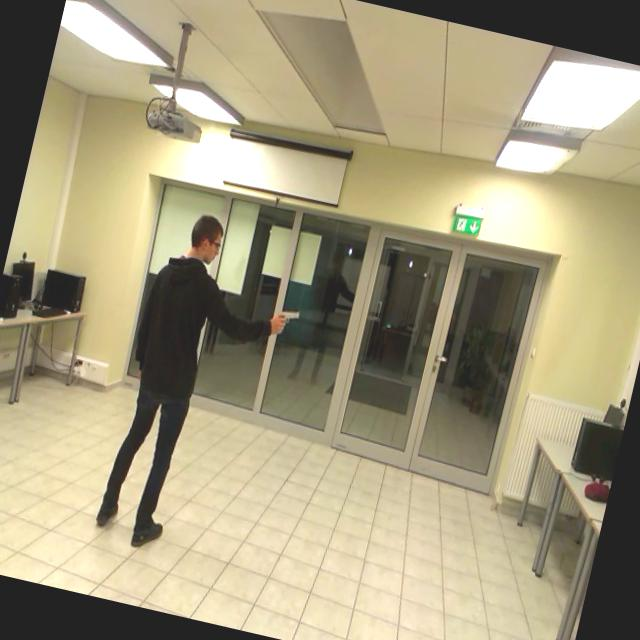handgun: (270, 301, 309, 344)
